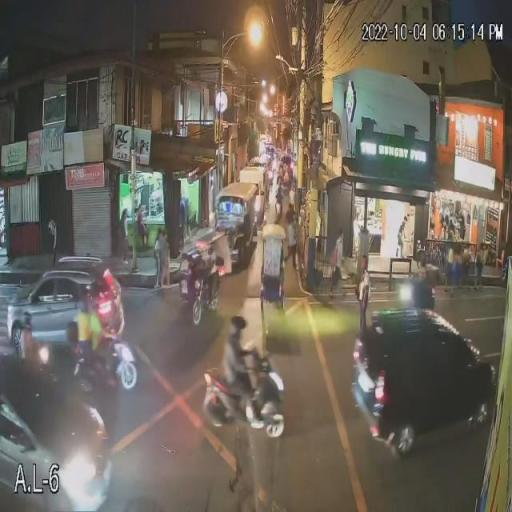helmet: (230, 316, 246, 330)
motorcycle: (202, 350, 286, 438), (179, 240, 227, 328), (74, 335, 138, 392)
rider: (223, 315, 265, 424), (76, 294, 114, 369), (195, 243, 221, 302)
